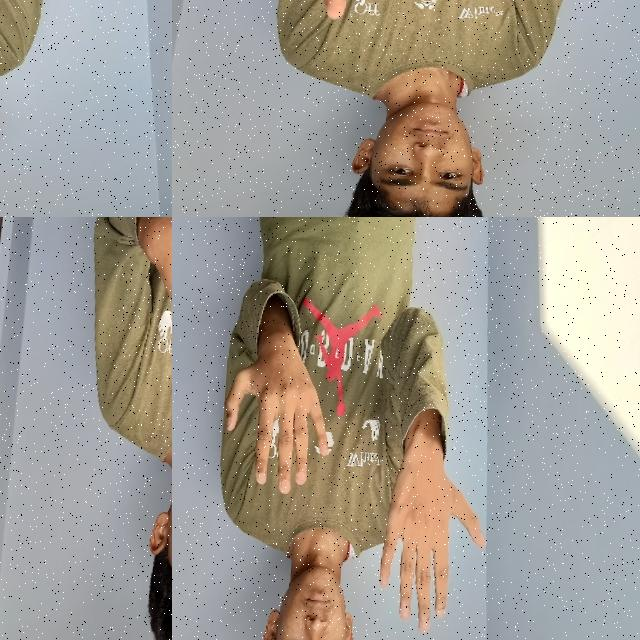Moutza: (366, 442, 492, 640), (211, 336, 341, 498)
Thumbs Up: (134, 217, 172, 366), (295, 0, 407, 34)
